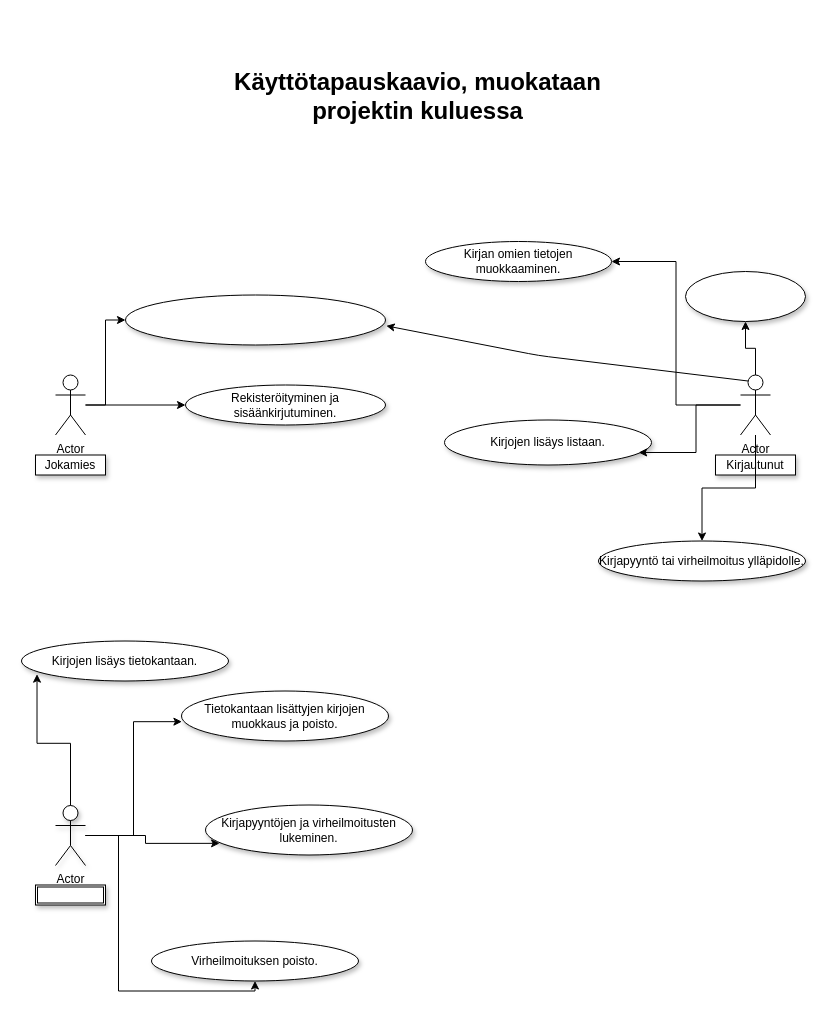
This 829x1016 diagram has some shape labels left out. The centre of each missing label's shape, as x and y in pixels:
"Kannassa olevien kirjojen haku eri hakusanoilla." goes at [256,321].
"Oman listan luominen." goes at [746,297].
"Ylläpito" goes at [71,896].
